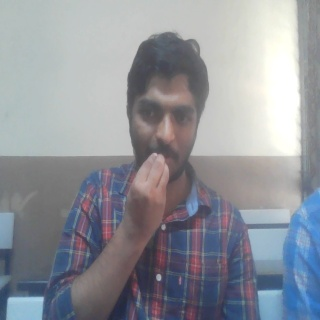Food: (122, 151, 170, 247)
